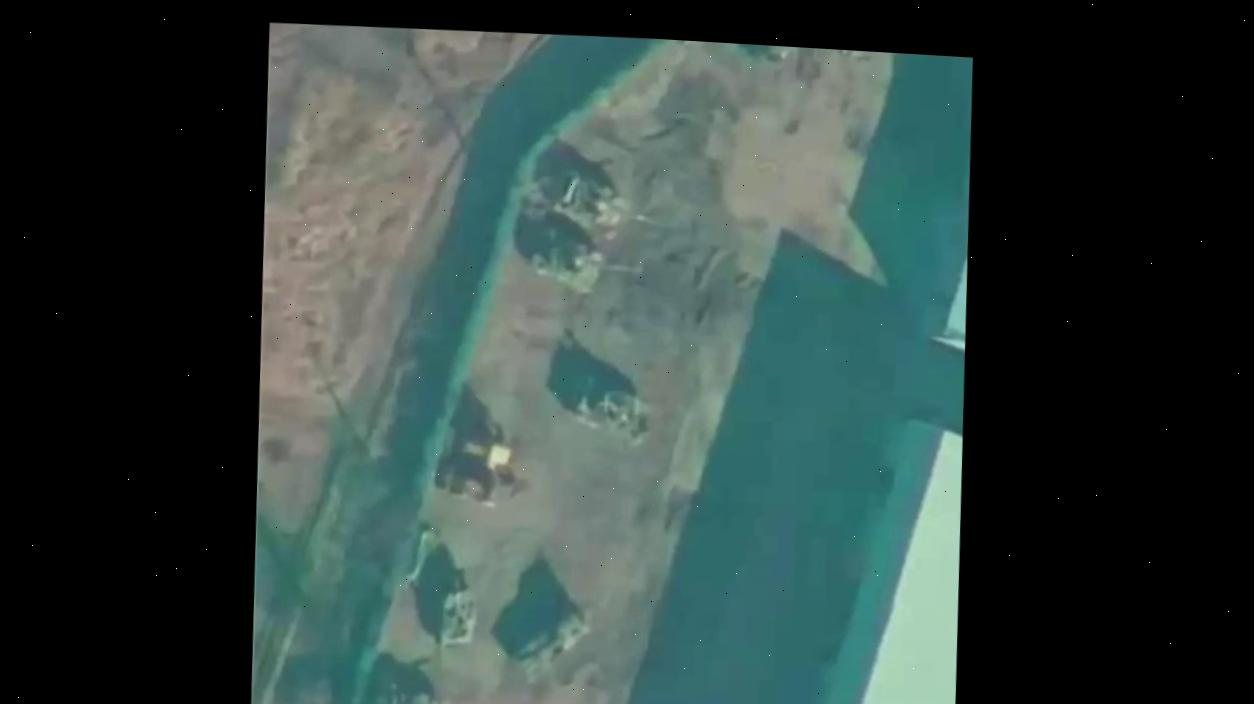tank: (548, 166, 658, 243), (504, 596, 595, 687), (531, 224, 643, 297), (563, 370, 656, 446)
